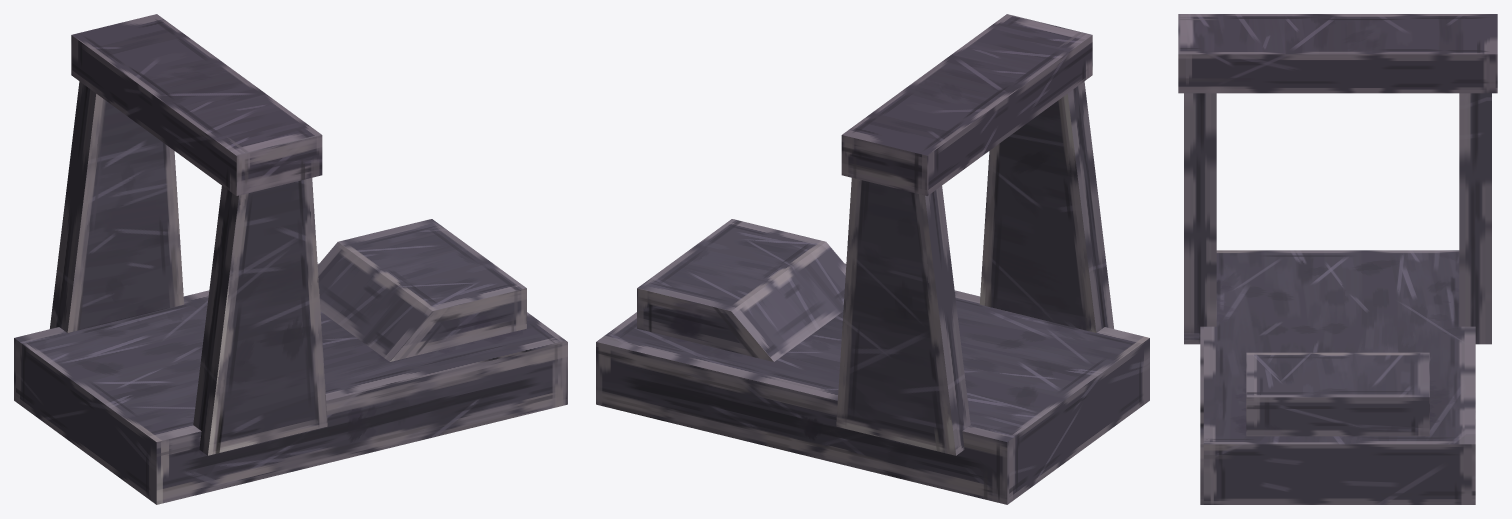
File: att_reddot_low.fbx
The picture shows the model from 3 angles, left to right: view 1: azimuth 30°, elevation 25°; view 2: azimuth 150°, elevation 25°; view 3: azimuth 270°, elevation 25°; orthographic projection. The views are drawn at different scales.
Visible parts, largest first — view 1: att_reddot; view 2: att_reddot; view 3: att_reddot.
Boxes of the visible parts, x1=… form: att_reddot: x1=14, y1=14, x2=567, y2=504; att_reddot: x1=596, y1=14, x2=1149, y2=504; att_reddot: x1=1178, y1=14, x2=1497, y2=504.
Bounding box in the file's own units: 0.27 × 0.2138 × 0.1879.
1 material, 1 textured.
